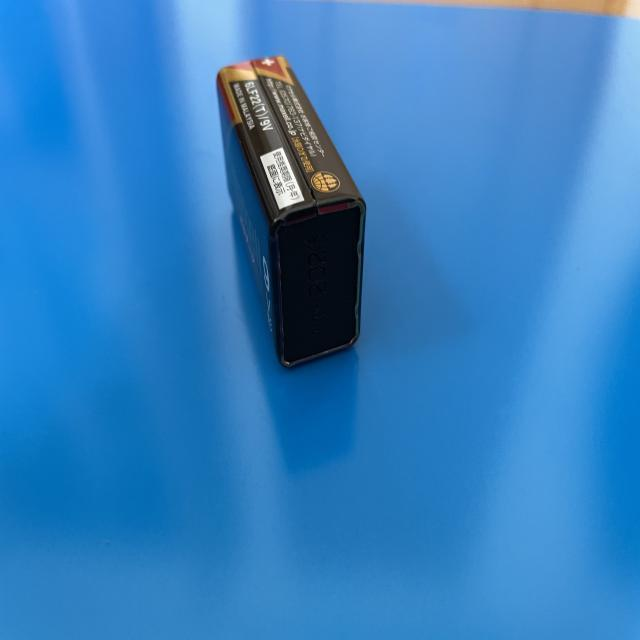9V: (217, 57, 368, 368)
